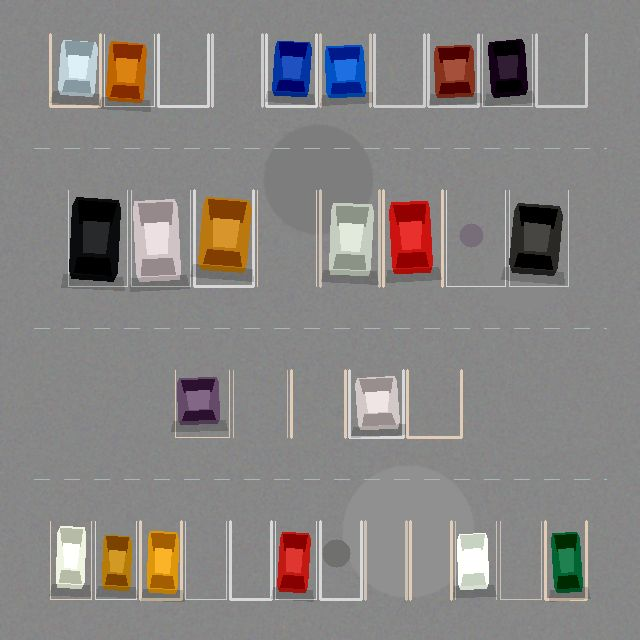space-empty: (257, 190, 316, 286), (446, 190, 505, 286), (233, 370, 287, 437), (291, 370, 345, 437), (407, 370, 461, 437), (158, 34, 208, 106), (212, 34, 262, 106), (374, 34, 424, 106), (536, 34, 586, 106), (185, 521, 226, 599), (230, 521, 271, 599), (320, 521, 361, 599), (365, 521, 406, 599), (410, 521, 451, 599), (500, 521, 541, 599)
space-occupied: (68, 190, 127, 286), (131, 190, 190, 286), (194, 190, 253, 286), (320, 190, 379, 286), (383, 190, 442, 286), (509, 190, 568, 286), (175, 370, 229, 437), (349, 370, 403, 437), (50, 34, 100, 106), (104, 34, 154, 106), (266, 34, 316, 106), (320, 34, 370, 106), (428, 34, 478, 106), (482, 34, 532, 106), (50, 521, 91, 599), (95, 521, 136, 599), (140, 521, 181, 599), (275, 521, 316, 599), (455, 521, 496, 599), (545, 521, 586, 599)
